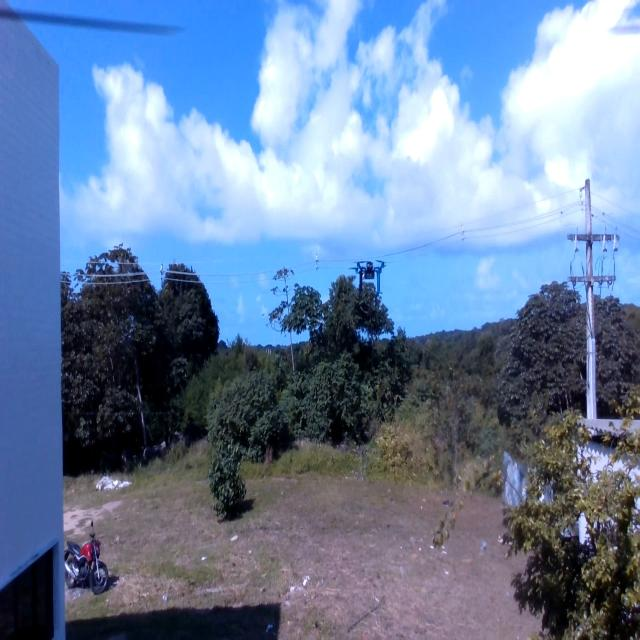-uav-: (334, 231, 393, 323)
